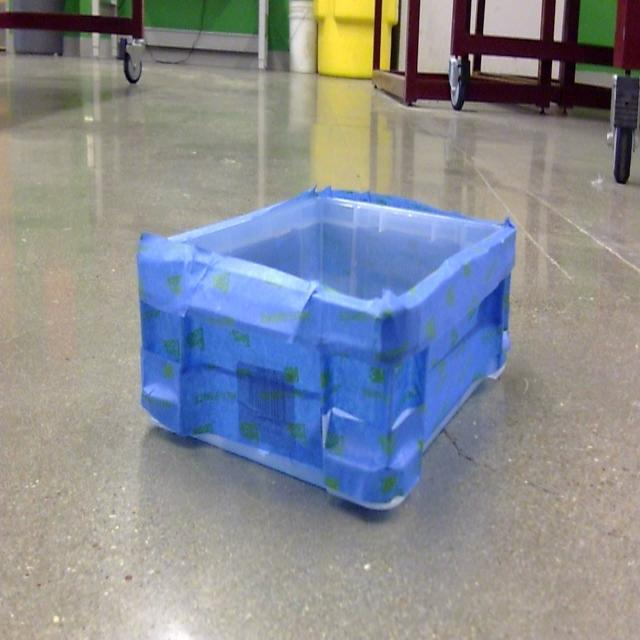bucket: (135, 179, 518, 519)
